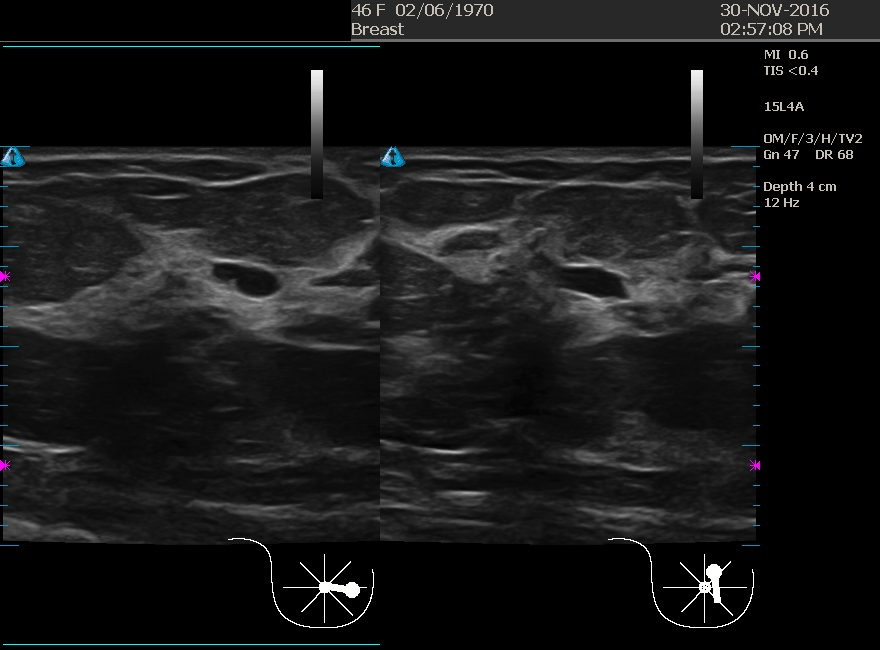BIRADS_2: (141, 225, 341, 425), (487, 197, 687, 397)
